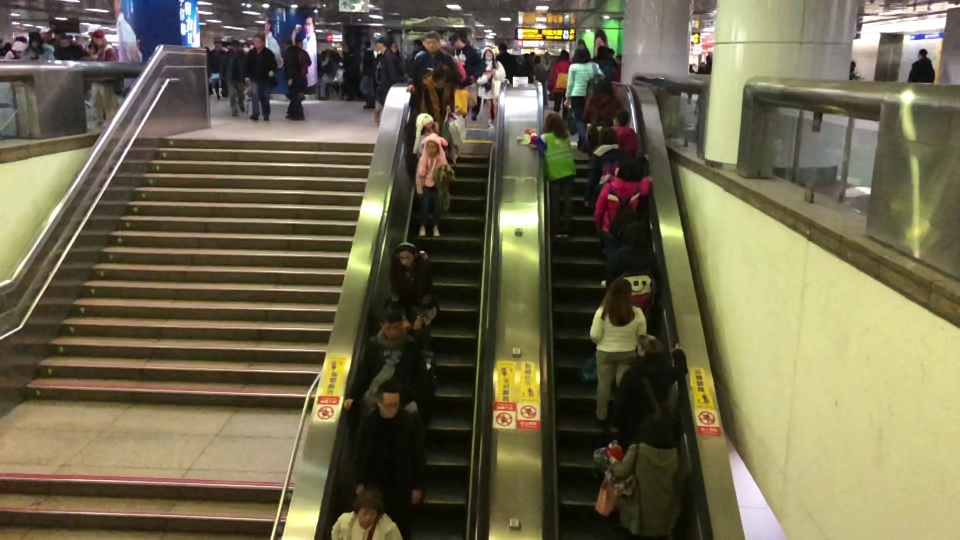person_head: (351, 490, 384, 528), (638, 414, 675, 446), (376, 379, 401, 417), (621, 220, 651, 247), (378, 306, 402, 337), (606, 278, 632, 303), (617, 160, 641, 182), (636, 336, 661, 356), (542, 110, 563, 131), (432, 64, 450, 88), (423, 30, 441, 52), (397, 244, 415, 266), (597, 127, 618, 145), (591, 78, 611, 93), (613, 109, 629, 127), (571, 47, 589, 61), (425, 138, 438, 154), (253, 33, 265, 48), (29, 33, 42, 46), (92, 30, 104, 44), (375, 37, 387, 48), (597, 46, 609, 57), (917, 48, 929, 59), (497, 42, 507, 53), (558, 49, 568, 59), (452, 36, 461, 47), (484, 48, 493, 59), (391, 42, 399, 54), (283, 37, 292, 47), (232, 41, 240, 52), (850, 59, 857, 71), (17, 36, 27, 44), (706, 53, 713, 63)
person_vbox: (607, 413, 687, 540), (342, 305, 433, 416), (352, 379, 428, 506), (588, 278, 647, 427), (593, 159, 654, 289), (613, 335, 688, 435), (528, 111, 579, 240), (582, 127, 650, 205), (605, 220, 662, 311), (389, 242, 441, 328), (404, 30, 463, 96), (330, 489, 400, 540), (82, 30, 119, 123), (415, 137, 448, 235), (243, 34, 278, 121), (582, 78, 624, 147), (280, 36, 311, 122), (452, 37, 482, 124), (564, 47, 597, 117), (416, 64, 454, 124), (477, 48, 505, 128), (373, 37, 398, 124), (221, 41, 246, 116), (548, 48, 568, 119), (612, 109, 640, 152), (907, 48, 935, 82), (20, 33, 54, 60), (497, 42, 517, 80), (5, 34, 28, 59), (596, 45, 613, 78), (696, 52, 715, 73), (848, 59, 863, 81)
